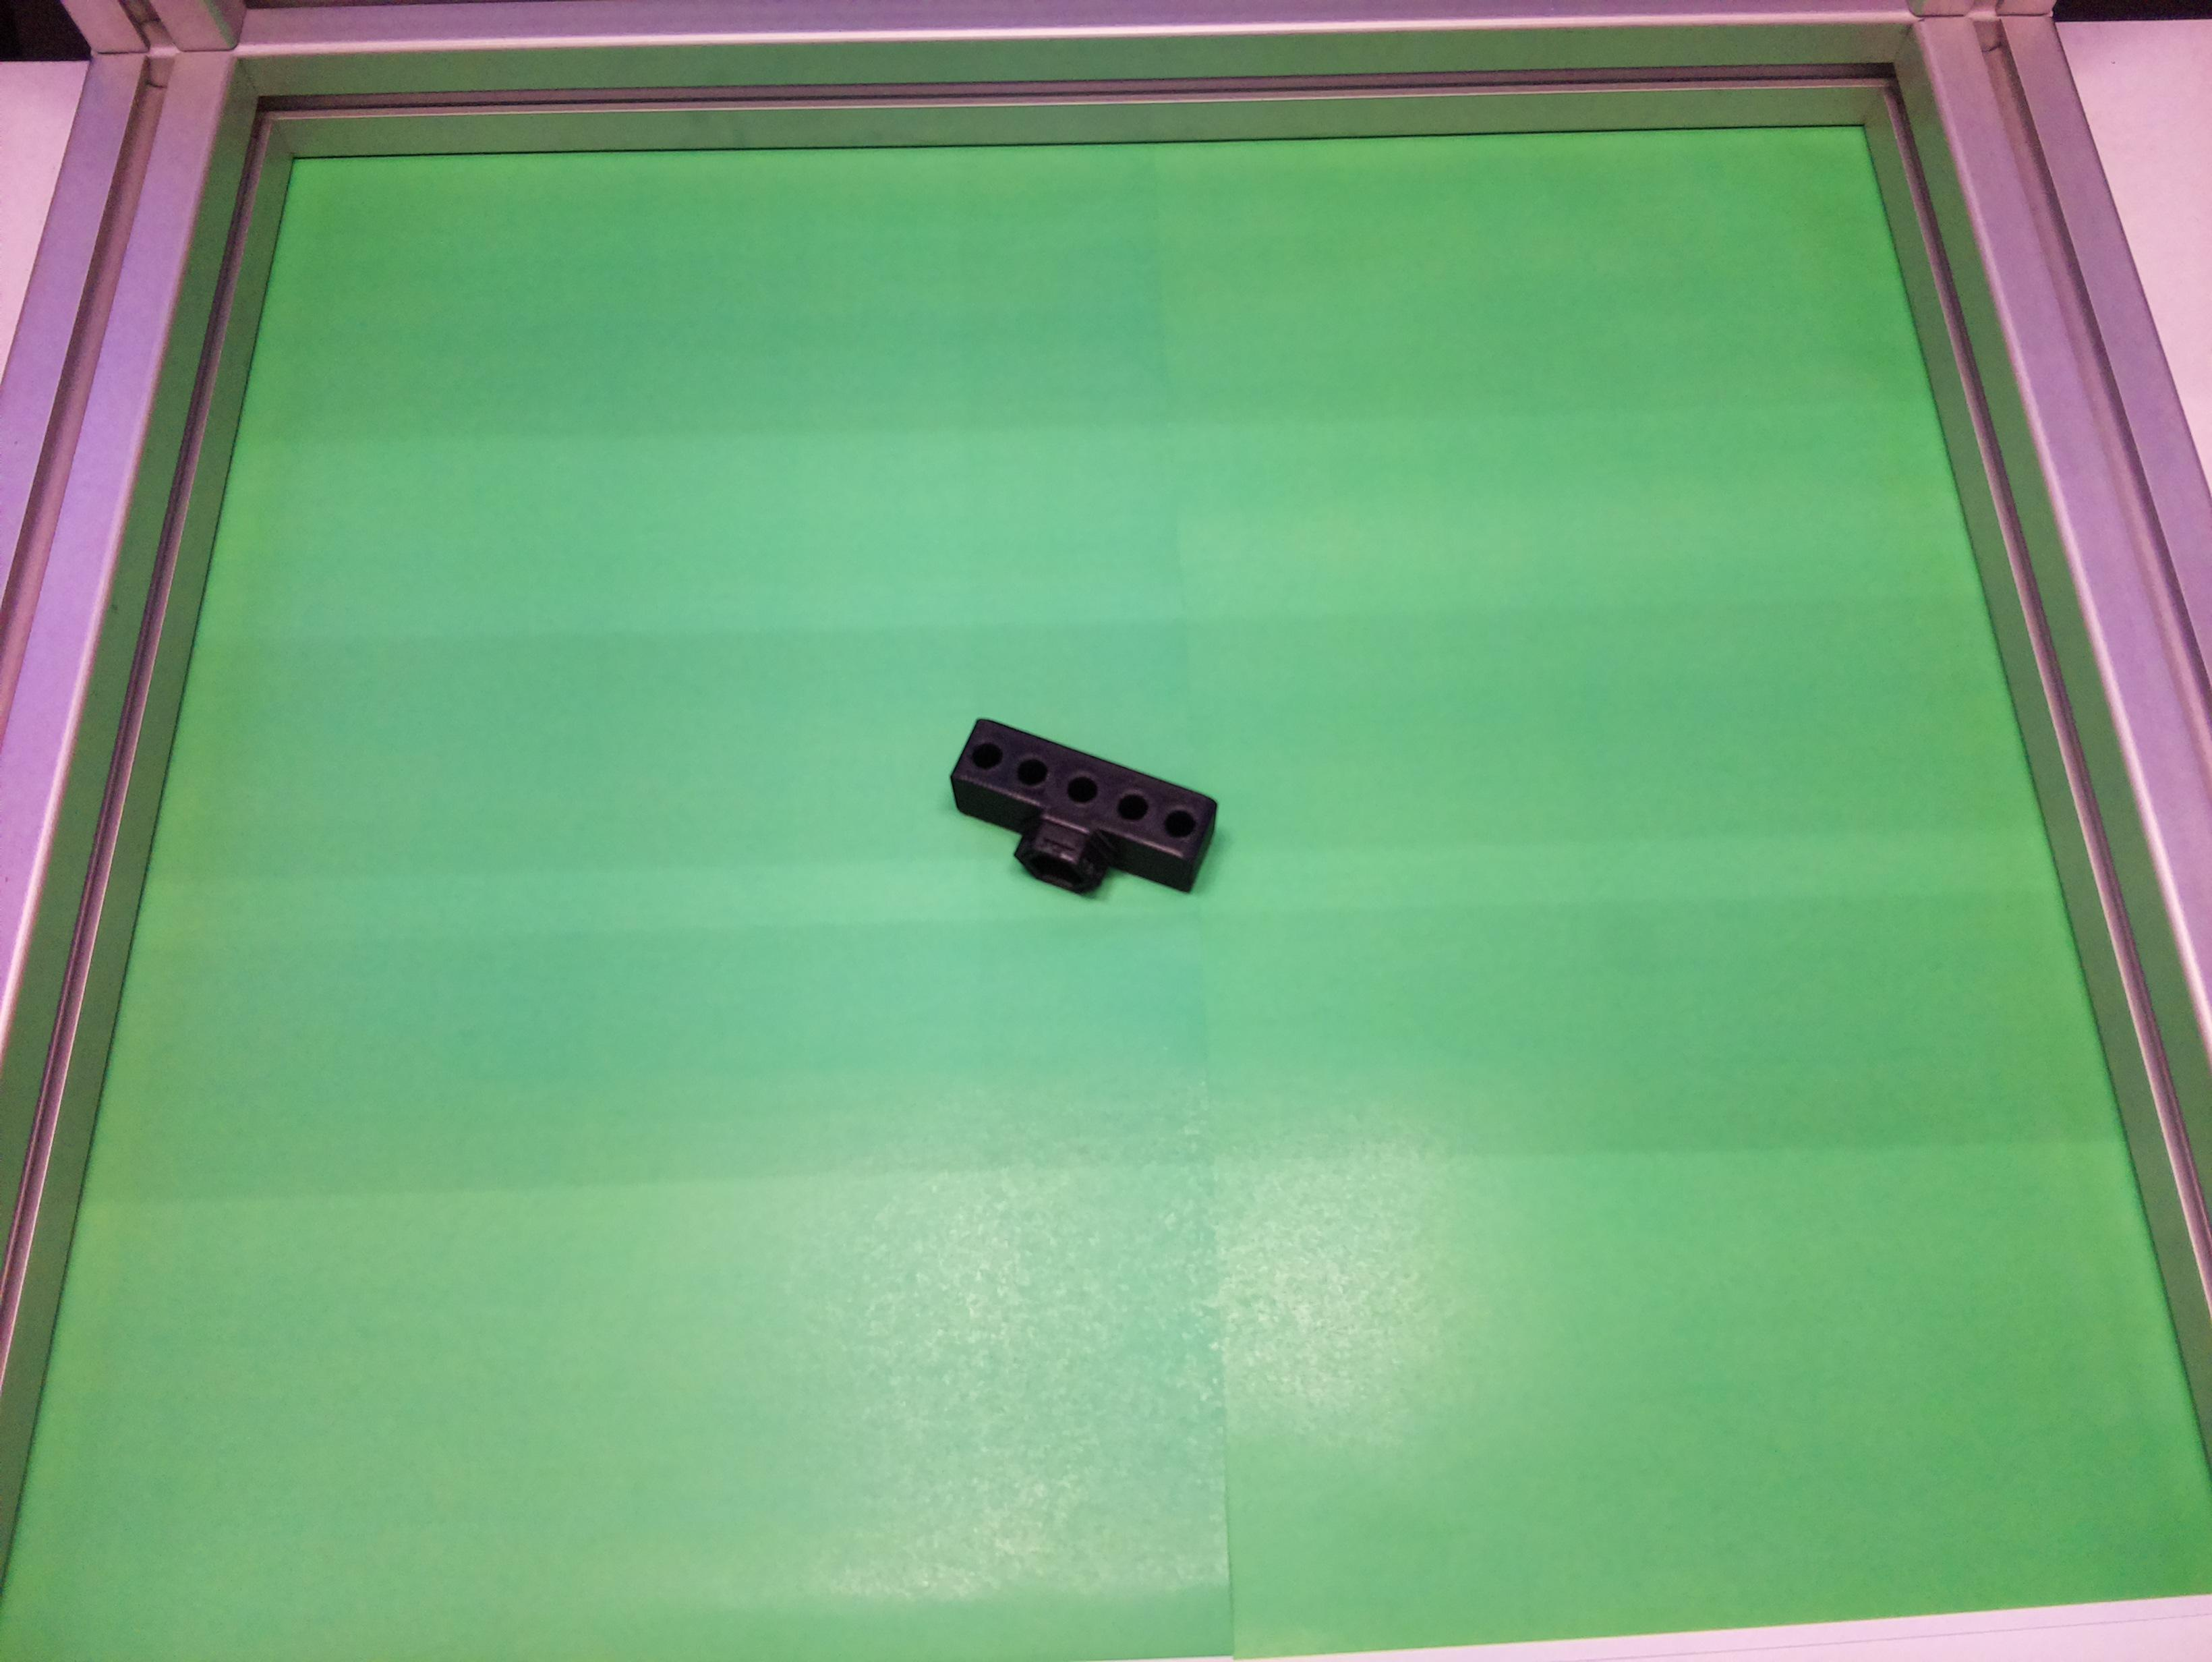bit_holder: (927, 712, 1226, 929)
